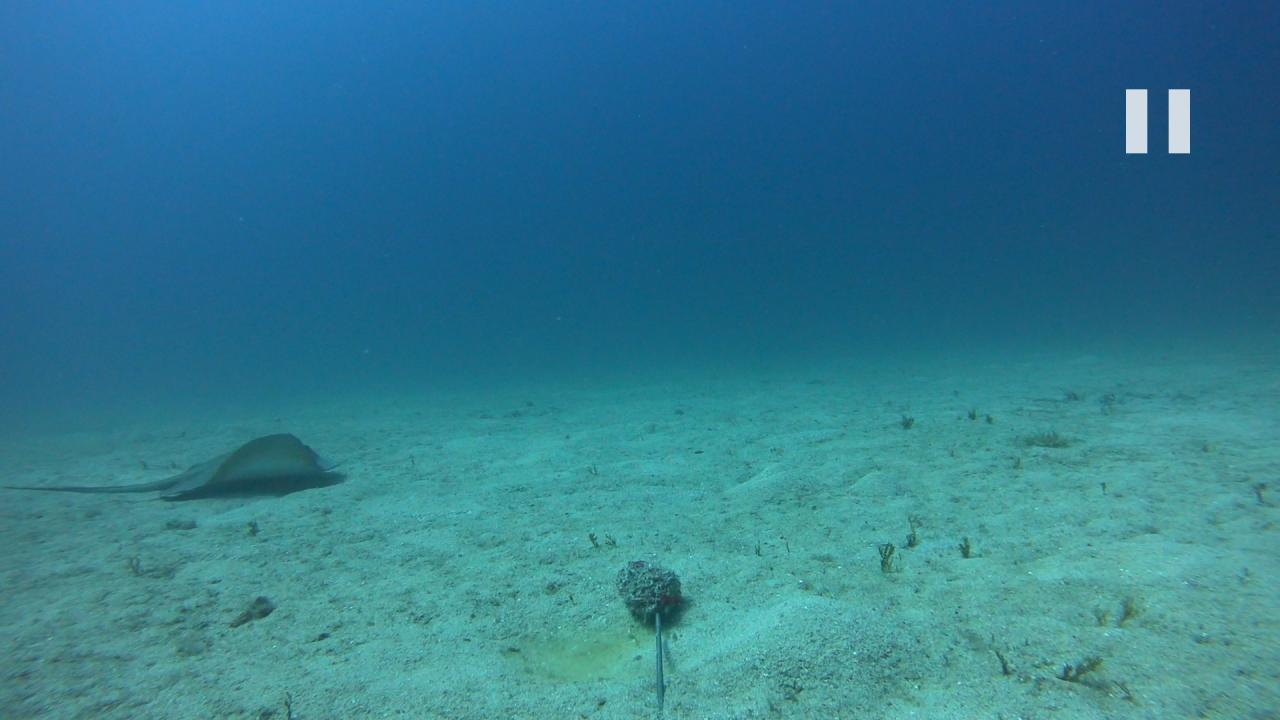dasyatis: (0, 427, 351, 503)
